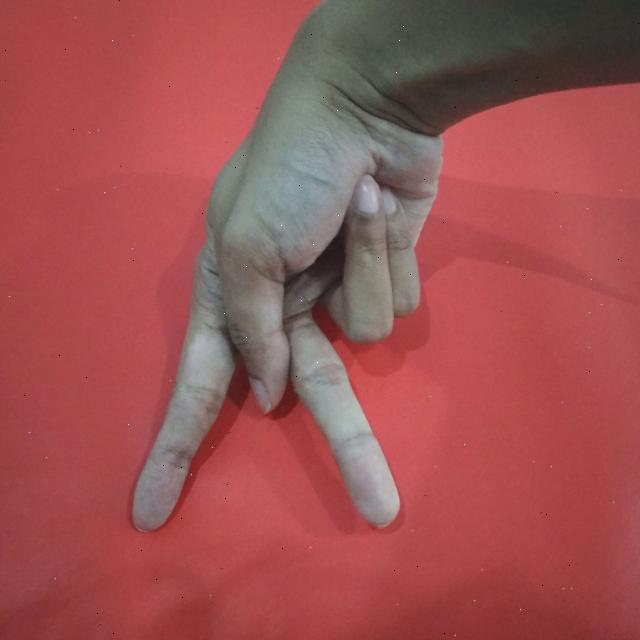P: (117, 0, 473, 550)
